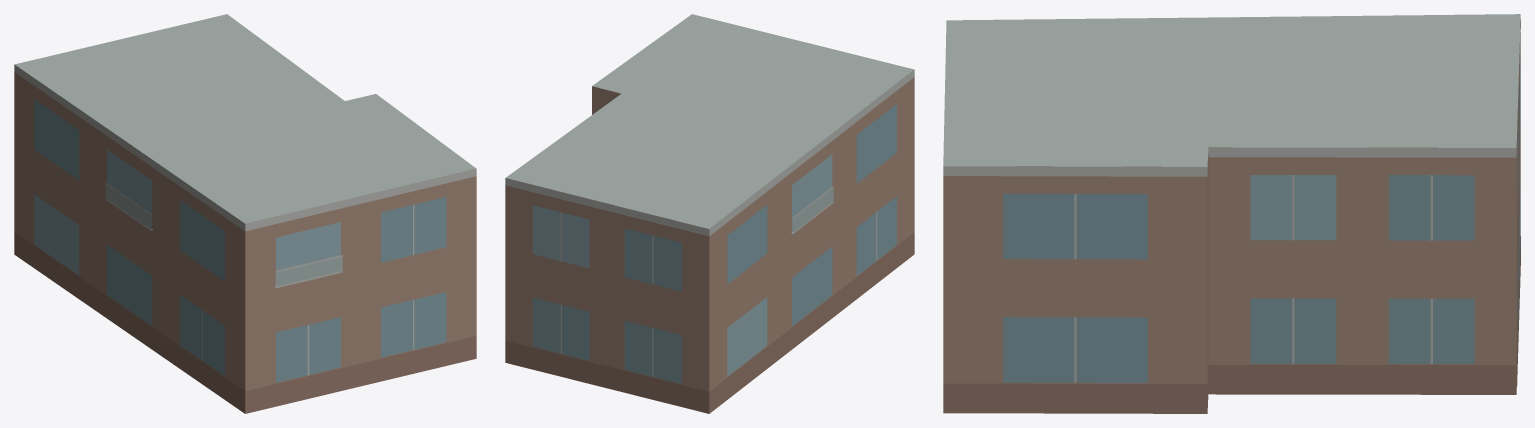
File: survey-upis-32973168.glb
3 views of the same model, side by side, from view 1: azimuth 30°, elevation 25°; view 2: azimuth 150°, elevation 25°; view 3: azimuth 270°, elevation 25° (orthographic). The views are drawn at different scales.
Parts seen in each view (by area): view 1: survey-upis-32973168.tmp; view 2: survey-upis-32973168.tmp; view 3: survey-upis-32973168.tmp.
Boxes of the visible parts, x1,y1,x2,y2 form: survey-upis-32973168.tmp: [14, 14, 476, 413]; survey-upis-32973168.tmp: [505, 14, 914, 413]; survey-upis-32973168.tmp: [943, 14, 1520, 413].
Size of the model in its own units: 8.11 by 6.1 by 12.94.
